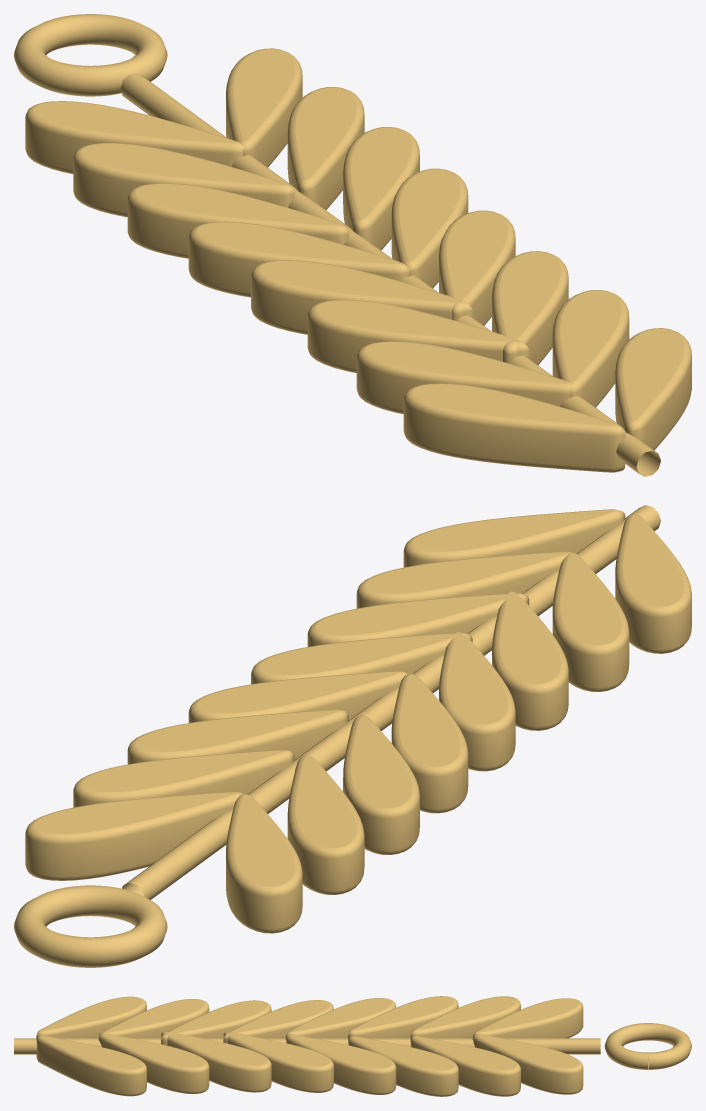
The model's file is pendant-11-gold.glb.
The picture shows the model from 3 angles, top to bottom: view 1: azimuth 30°, elevation 25°; view 2: azimuth 150°, elevation 25°; view 3: azimuth 270°, elevation 25°; orthographic projection. The views are drawn at different scales.
Visible parts, largest first — view 1: Cast relief.024, Cast relief.010, Cast relief.022, Cast relief.012, Wire detail.008, Cast relief.014, Cast relief.020, Cast relief.016, Cast relief.018, Cast relief.025, Cast relief.013, Cast relief.011 (+6 smaller); view 2: Cast relief.011, Wire detail.009, Wire detail.008, Cast relief.010, Cast relief.012, Cast relief.024, Cast relief.022, Cast relief.013, Cast relief.025, Cast relief.014, Cast relief.020, Cast relief.015 (+6 smaller); view 3: Cast relief.025, Cast relief.011, Cast relief.023, Cast relief.021, Cast relief.013, Cast relief.019, Cast relief.015, Cast relief.017, Cast relief.010, Wire detail.008, Cast relief.012, Cast relief.024 (+6 smaller).
Boxes of the visible parts, x1,y1,x2,y2 form: Cast relief.024: [403, 383, 625, 472]; Cast relief.010: [25, 101, 246, 174]; Cast relief.022: [356, 341, 578, 414]; Cast relief.012: [73, 143, 294, 217]; Wire detail.008: [14, 14, 167, 96]; Cast relief.014: [127, 183, 348, 258]; Cast relief.020: [307, 299, 529, 373]; Cast relief.016: [188, 221, 410, 297]; Cast relief.018: [251, 260, 472, 334]; Cast relief.025: [615, 328, 691, 450]; Cast relief.013: [287, 87, 364, 209]; Cast relief.011: [226, 48, 302, 167]; Cast relief.011: [25, 791, 243, 880]; Wire detail.009: [122, 505, 660, 899]; Wire detail.008: [14, 885, 167, 967]; Cast relief.010: [226, 793, 302, 933]; Cast relief.012: [287, 755, 364, 894]; Cast relief.024: [615, 514, 691, 653]; Cast relief.022: [552, 552, 629, 691]; Cast relief.013: [73, 750, 294, 807]; Cast relief.025: [403, 509, 625, 567]; Cast relief.014: [343, 715, 419, 854]; Cast relief.020: [492, 590, 568, 730]; Cast relief.015: [127, 709, 348, 764]; Cast relief.025: [36, 1035, 146, 1096]; Cast relief.011: [472, 1034, 583, 1094]; Cast relief.023: [98, 1033, 209, 1093]; Cast relief.021: [161, 1031, 271, 1092]; Cast relief.013: [410, 1036, 520, 1096]; Cast relief.019: [223, 1032, 333, 1092]; Cast relief.015: [348, 1036, 458, 1096]; Cast relief.017: [286, 1034, 396, 1094]; Cast relief.010: [472, 998, 583, 1039]; Wire detail.008: [604, 1023, 691, 1069]; Cast relief.012: [410, 996, 520, 1038]; Cast relief.024: [36, 996, 146, 1038].
Bounding box in the file's own units: 0.005 × 0.00079 × 0.0185.
